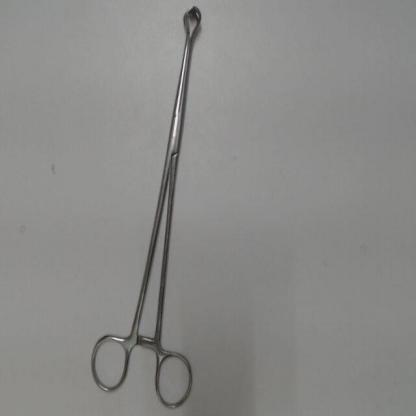8 Babcock Tissue Forceps: (83, 4, 209, 412)
